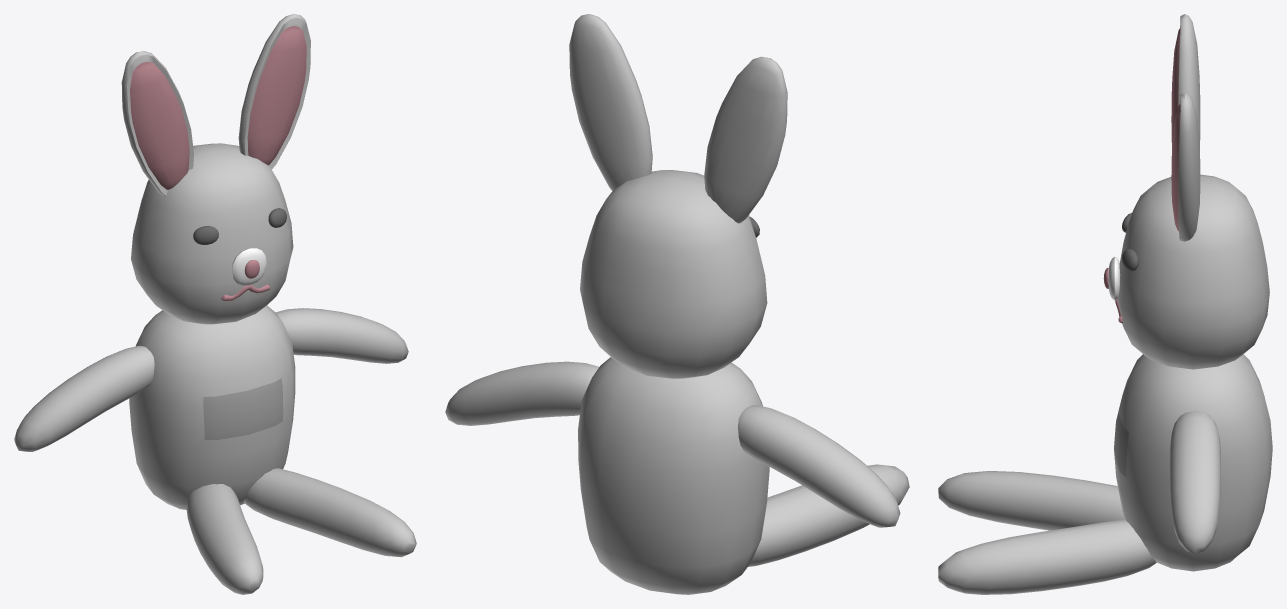
Rendered from Rabbit.fbx.
The picture shows the model from 3 angles, left to right: view 1: azimuth 30°, elevation 25°; view 2: azimuth 150°, elevation 25°; view 3: azimuth 270°, elevation 25°; orthographic projection. The views are drawn at different scales.
Parts seen in each view (by area): view 1: Rabbit; view 2: Rabbit; view 3: Rabbit.
Part boxes in pixels (<box>): Rabbit: <box>14,14,416,594</box>; Rabbit: <box>445,14,909,594</box>; Rabbit: <box>938,14,1272,594</box>.
Size of the model in its own units: 0.3479 by 0.402 by 0.2417.
